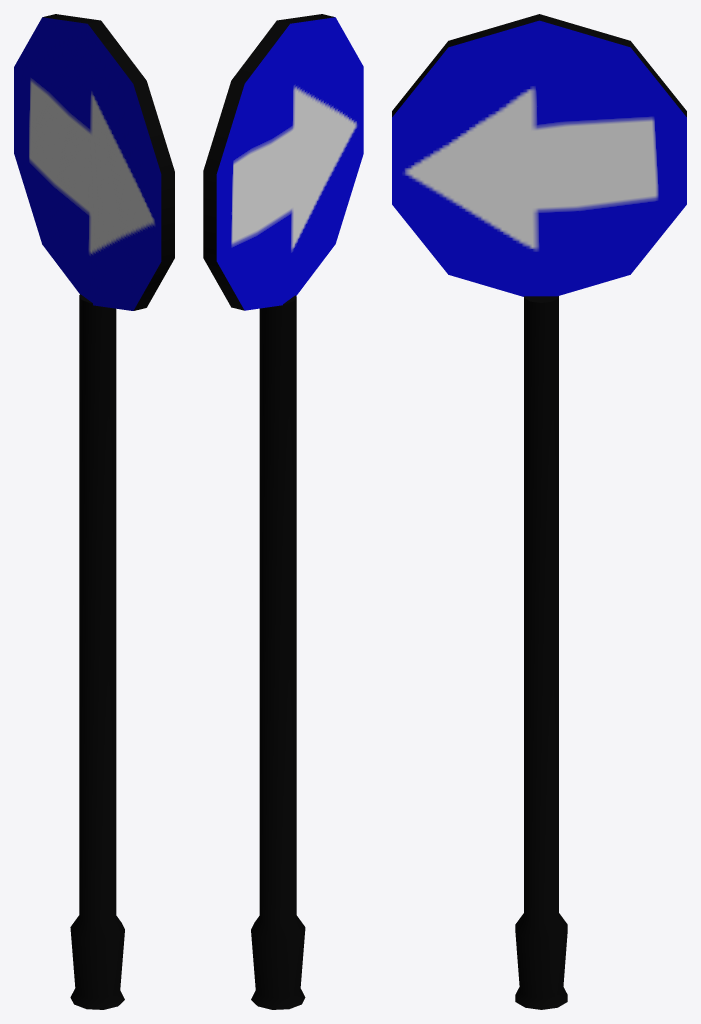
The picture shows the model from 3 angles, left to right: view 1: azimuth 30°, elevation 25°; view 2: azimuth 150°, elevation 25°; view 3: azimuth 270°, elevation 25°; orthographic projection.
Parts seen in each view (by area): view 1: Cylinder002; view 2: Cylinder002; view 3: Cylinder002.
Part boxes in pixels (x1=…): Cylinder002: x1=14, y1=14, x2=174, y2=1009; Cylinder002: x1=203, y1=14, x2=363, y2=1009; Cylinder002: x1=392, y1=14, x2=686, y2=1009.
Bounding box in the file's own units: 1.42 × 27.86 × 7.61.
